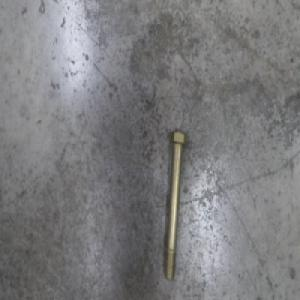Bolt: (163, 129, 188, 282)
